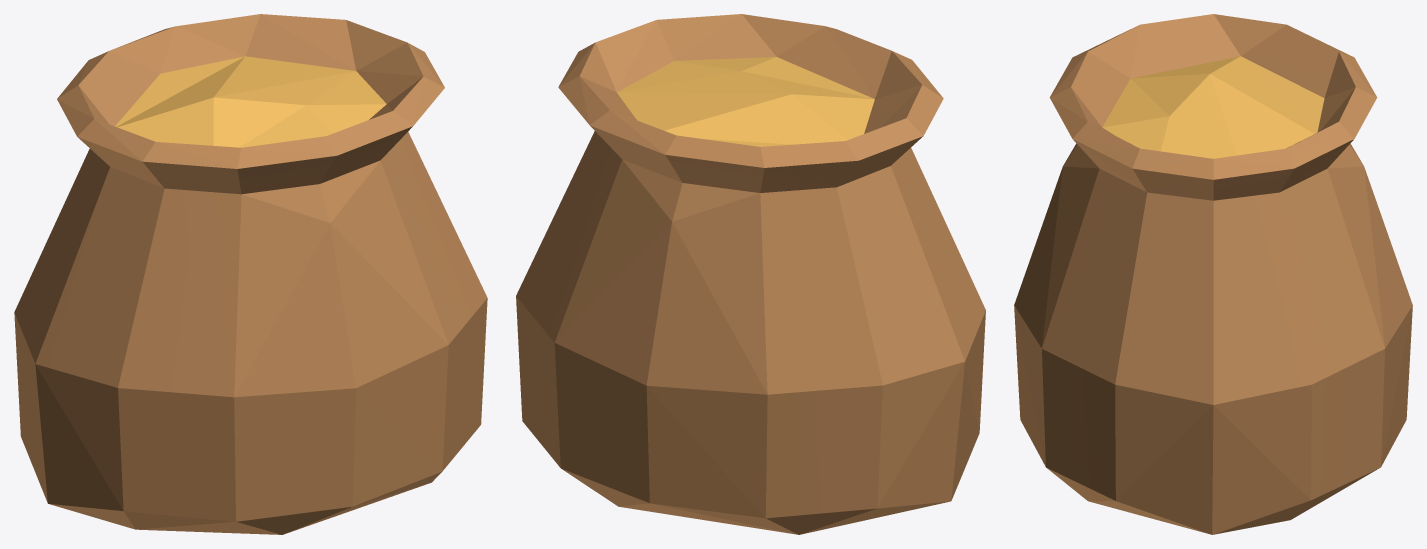
The model's file is Bag.fbx.
The picture shows the model from 3 angles, left to right: view 1: azimuth 30°, elevation 25°; view 2: azimuth 150°, elevation 25°; view 3: azimuth 270°, elevation 25°; orthographic projection. The views are drawn at different scales.
Visible parts, largest first — view 1: Bag; view 2: Bag; view 3: Bag.
Part boxes in pixels (<box>): Bag: <box>14,14,487,534</box>; Bag: <box>516,14,985,534</box>; Bag: <box>1014,14,1412,534</box>.
Bounding box in the file's own units: 63.5 × 53.67 × 53.61.
